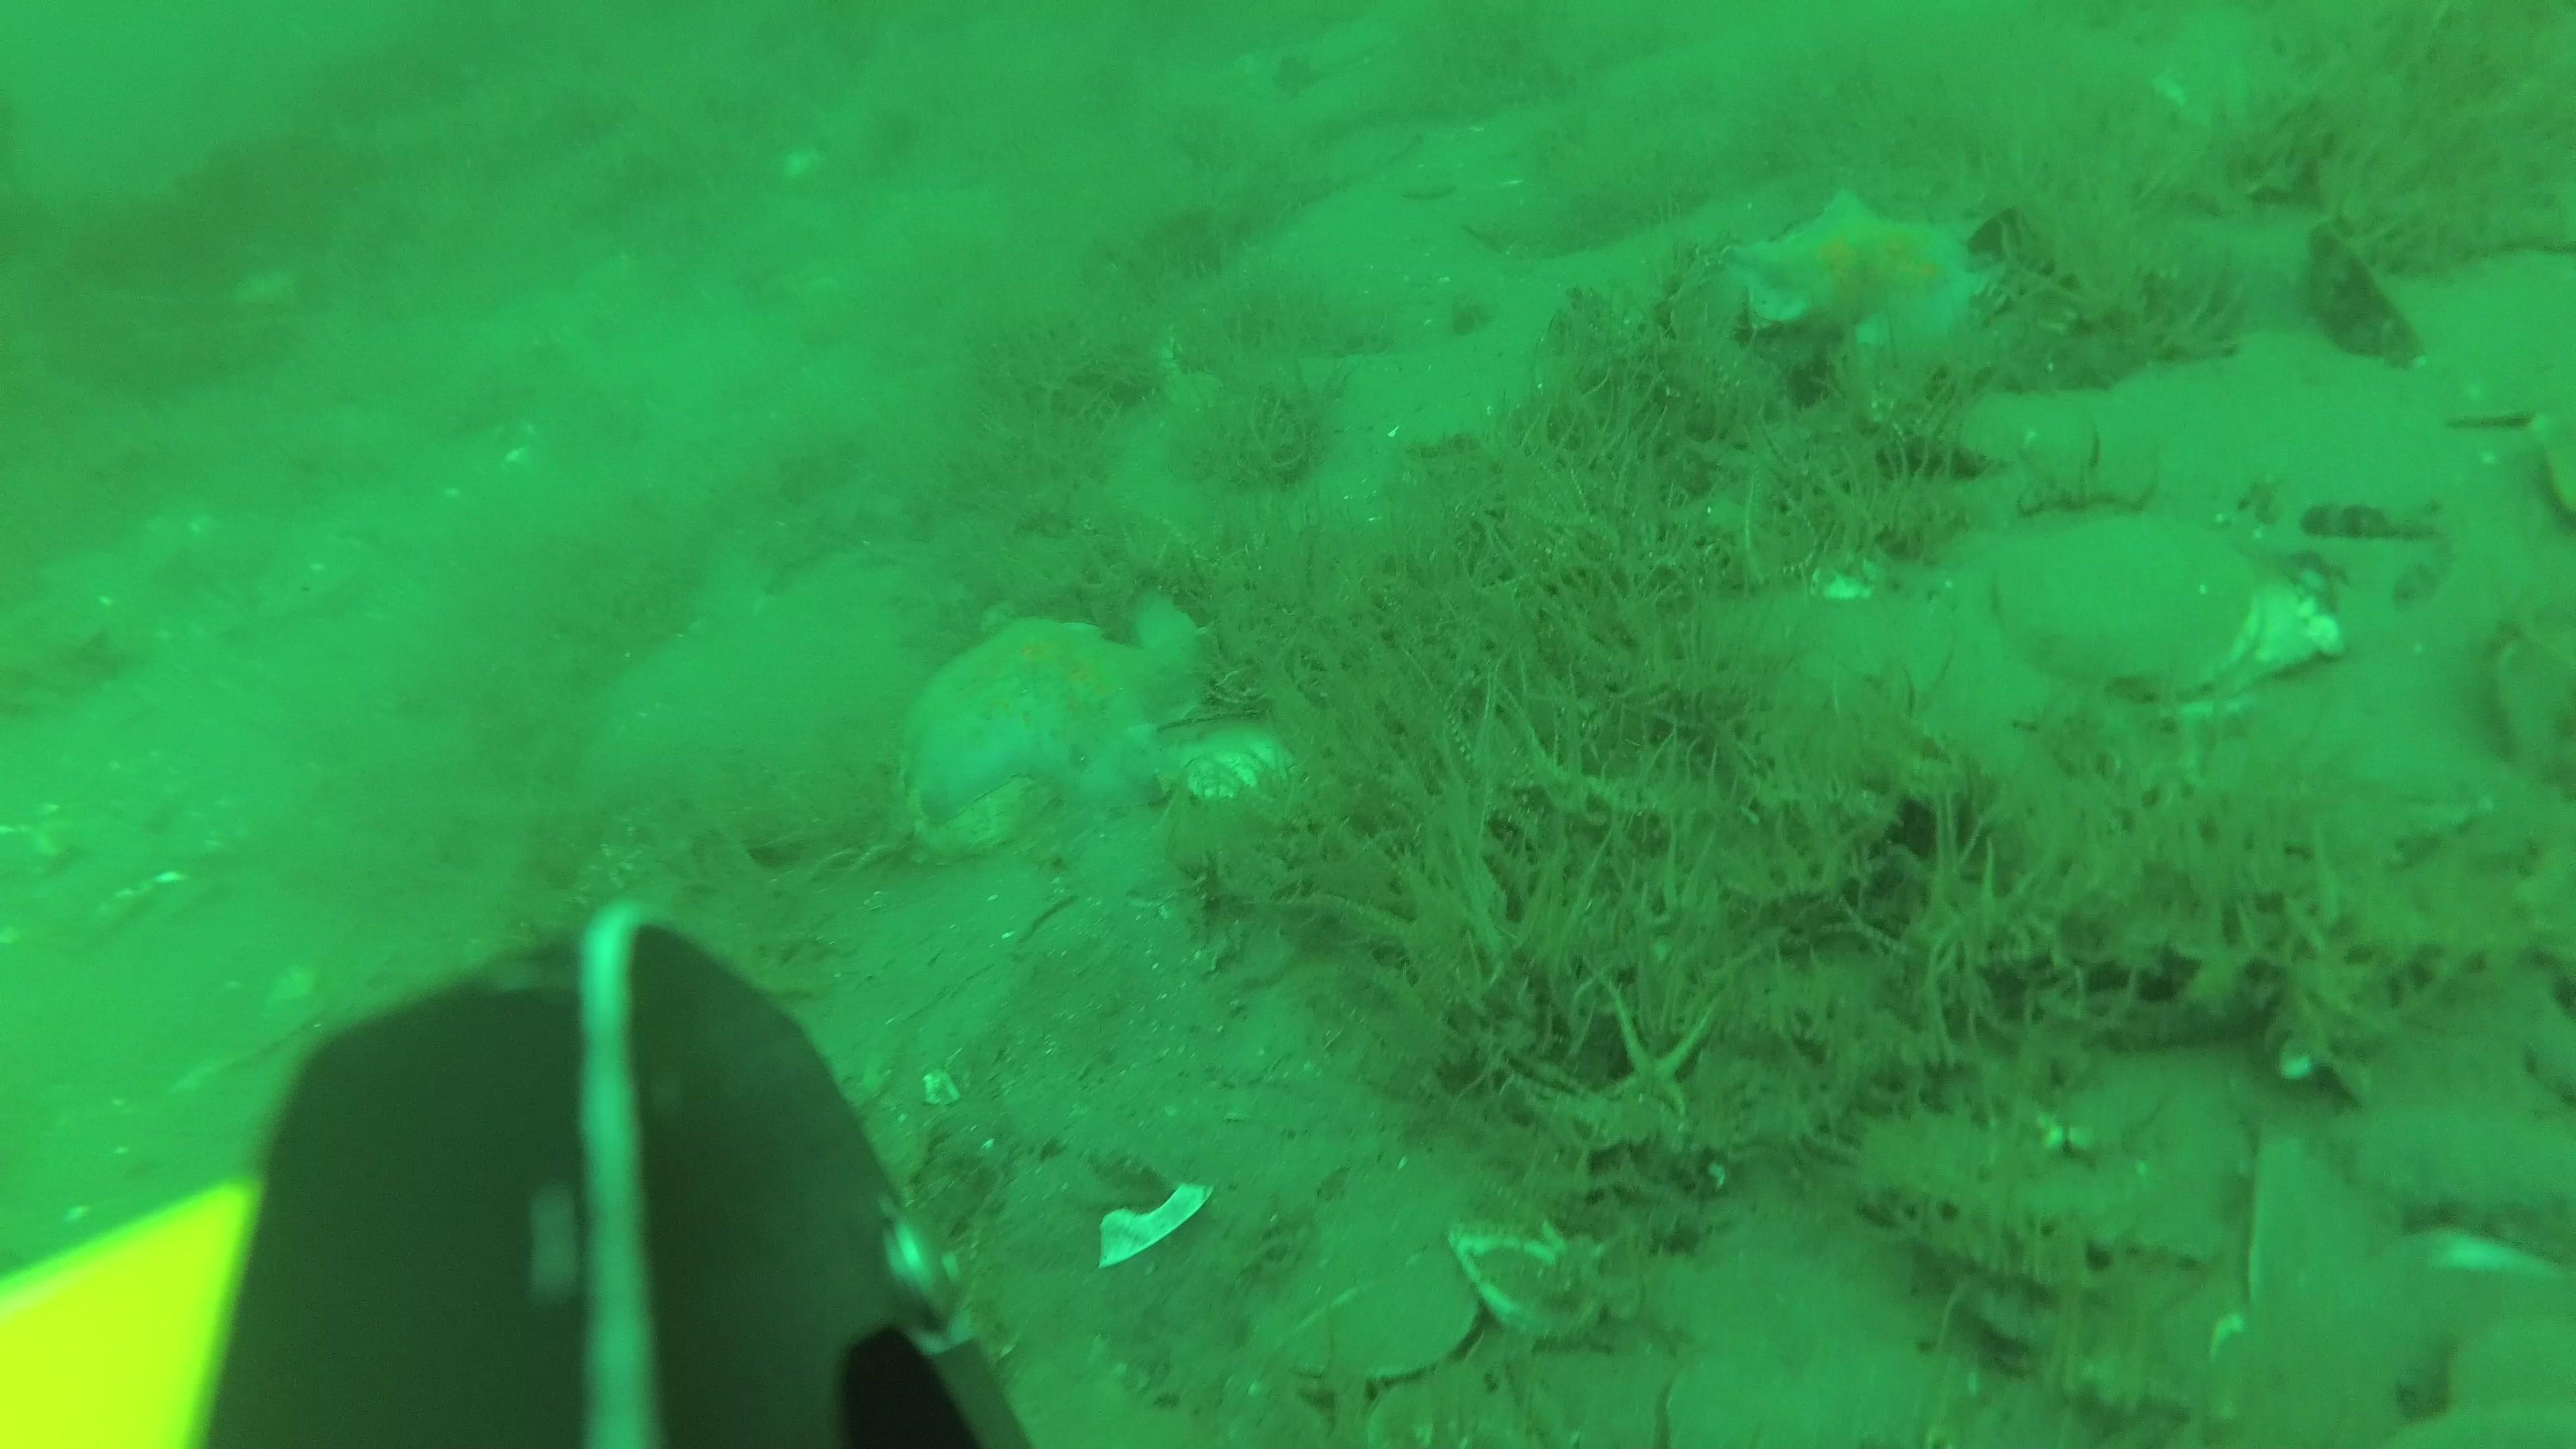scallop: (1978, 501, 2334, 694)
starfish: (902, 600, 1210, 824), (1721, 189, 1987, 356)
